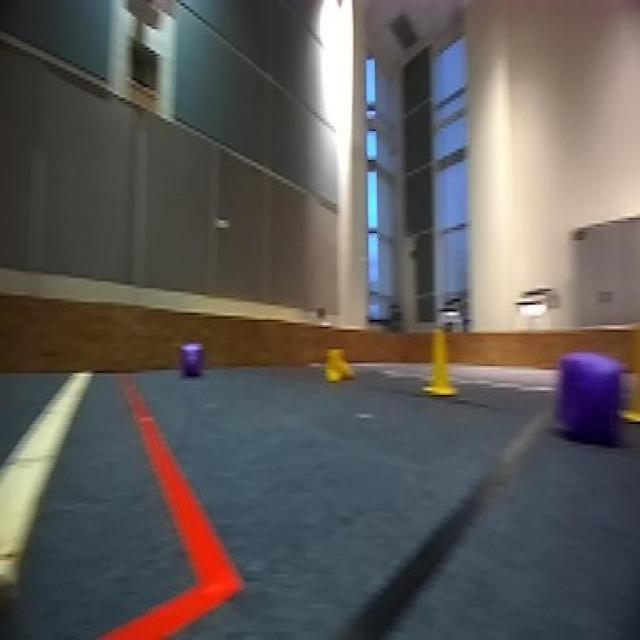frc_cone: (420, 324, 460, 396), (321, 344, 357, 385)
frc_cube: (559, 334, 631, 451), (180, 342, 202, 381)
